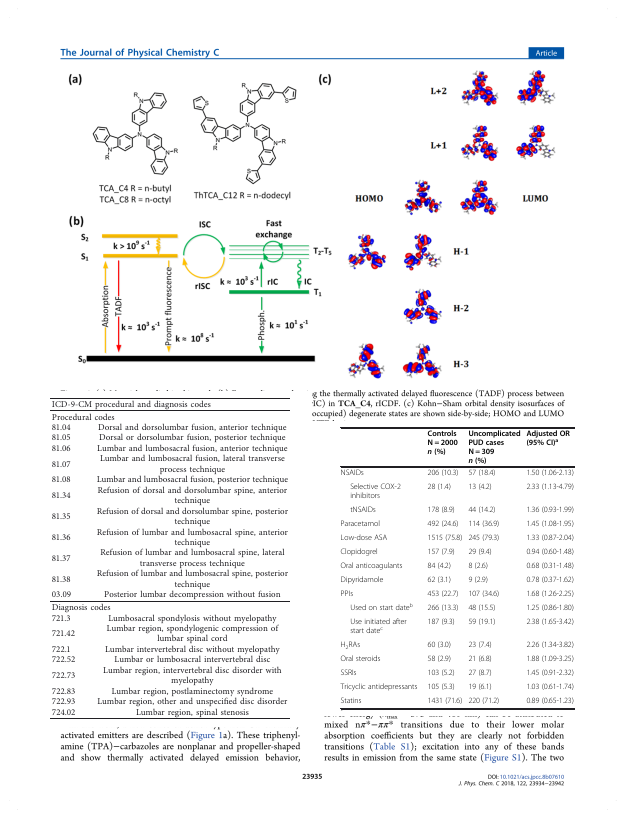borderless: (49, 396, 290, 718), (339, 426, 574, 708)
cell: (95, 569, 289, 591), (99, 454, 285, 476), (95, 507, 289, 528), (95, 528, 289, 549), (96, 486, 288, 507), (99, 549, 285, 570), (102, 666, 282, 687), (105, 624, 279, 645), (95, 475, 289, 486), (96, 444, 288, 455), (96, 697, 288, 708), (97, 423, 287, 434), (103, 590, 281, 601), (467, 430, 521, 466), (104, 645, 280, 656), (98, 434, 286, 444), (50, 400, 211, 411), (113, 655, 271, 666), (107, 614, 277, 624), (110, 687, 274, 697), (135, 708, 249, 718), (349, 618, 408, 637), (349, 483, 402, 502), (426, 430, 459, 457), (525, 430, 571, 448), (349, 602, 414, 614), (340, 683, 418, 693), (50, 603, 111, 614), (50, 413, 115, 423), (340, 562, 403, 572), (525, 469, 575, 479), (525, 483, 575, 493), (525, 506, 575, 516), (525, 520, 575, 530), (525, 534, 575, 544), (525, 548, 575, 558), (525, 562, 575, 572), (525, 576, 575, 586), (525, 590, 575, 600), (525, 604, 575, 614), (525, 618, 575, 628), (525, 641, 575, 651), (525, 655, 575, 665), (525, 669, 575, 679), (525, 683, 575, 693), (525, 697, 575, 707), (340, 534, 388, 544), (340, 576, 384, 586), (340, 520, 381, 530), (340, 655, 381, 665), (340, 548, 379, 558), (426, 534, 463, 544), (426, 697, 463, 707), (426, 469, 459, 479), (426, 520, 459, 530), (467, 520, 500, 530), (467, 534, 500, 544), (426, 590, 459, 600), (467, 590, 500, 600), (426, 604, 459, 614), (467, 697, 500, 707), (426, 506, 456, 516), (426, 548, 456, 558), (426, 618, 456, 628), (426, 669, 456, 679), (426, 683, 456, 693), (467, 469, 496, 479), (467, 506, 496, 516), (467, 604, 496, 614), (467, 618, 496, 628), (50, 629, 76, 640), (50, 655, 76, 666), (50, 671, 76, 682), (50, 697, 76, 708), (349, 506, 377, 516), (50, 687, 76, 697), (50, 708, 76, 718), (426, 483, 452, 493), (426, 562, 452, 572), (426, 576, 452, 586), (426, 641, 452, 651), (426, 655, 452, 665), (340, 469, 365, 479), (467, 483, 492, 493), (467, 548, 492, 558), (467, 641, 492, 651), (467, 655, 492, 665), (467, 669, 492, 679), (467, 683, 492, 693), (50, 590, 72, 601), (50, 423, 71, 434), (50, 444, 71, 455), (50, 475, 71, 486), (50, 491, 71, 502), (50, 512, 71, 523), (50, 533, 71, 544), (50, 645, 71, 656), (467, 562, 489, 572), (467, 576, 489, 586), (339, 641, 361, 651), (340, 697, 362, 707), (50, 434, 71, 444), (50, 460, 71, 470), (50, 554, 71, 564), (50, 575, 71, 585), (50, 614, 71, 624), (340, 669, 357, 679), (340, 590, 354, 600)
